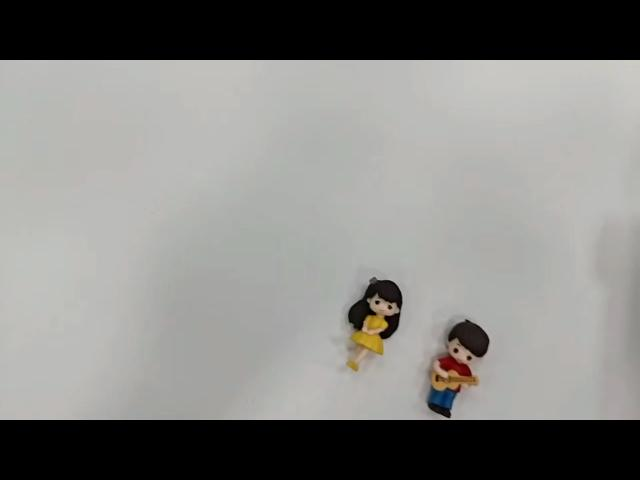man: (424, 316, 490, 418)
woman: (338, 271, 404, 373)
